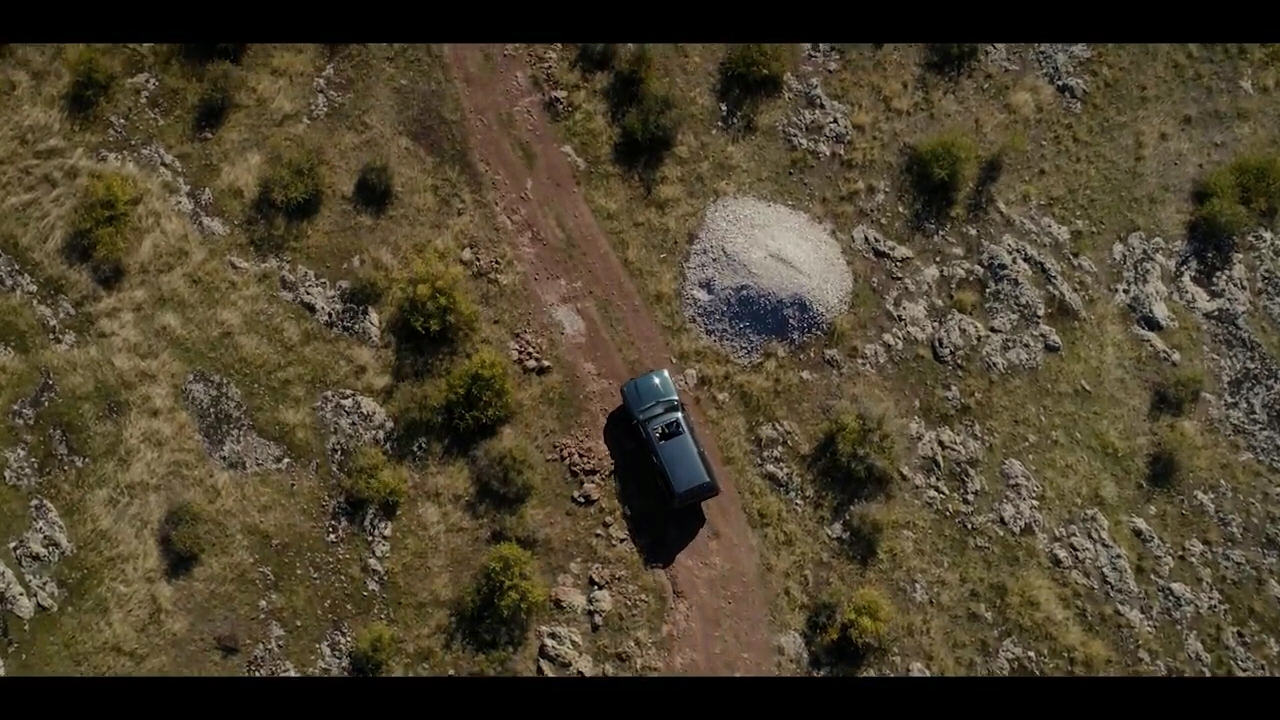araba: (619, 367, 720, 505)
